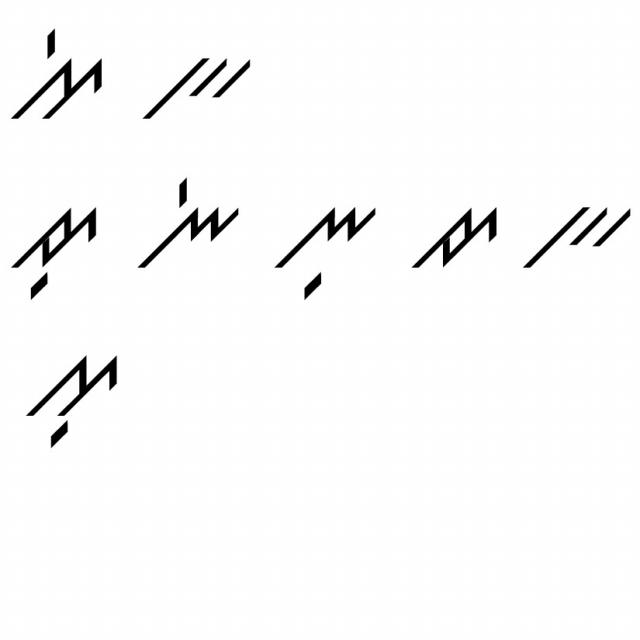ja: (412, 194, 507, 289)
ju: (5, 199, 101, 306)
nye: (136, 172, 244, 286)
nyu: (270, 192, 382, 308)
se: (9, 24, 111, 126)
su: (20, 343, 123, 454)
